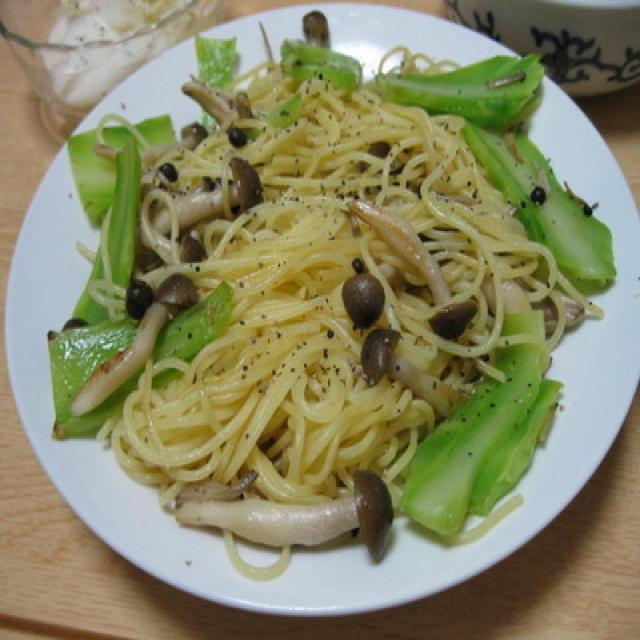Pasta: (145, 92, 506, 477)
